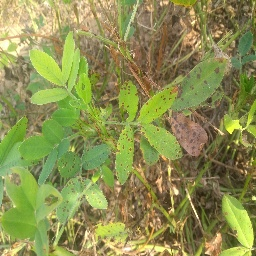GroundNut_Leaf: (184, 57, 229, 108), (37, 178, 109, 208), (221, 192, 253, 248), (140, 83, 182, 123), (139, 125, 184, 159), (4, 166, 36, 208), (19, 129, 63, 158), (28, 46, 60, 83), (1, 210, 42, 238), (115, 123, 134, 182), (81, 142, 111, 168), (118, 80, 137, 121), (62, 29, 75, 82), (30, 87, 67, 105), (50, 108, 79, 126)
